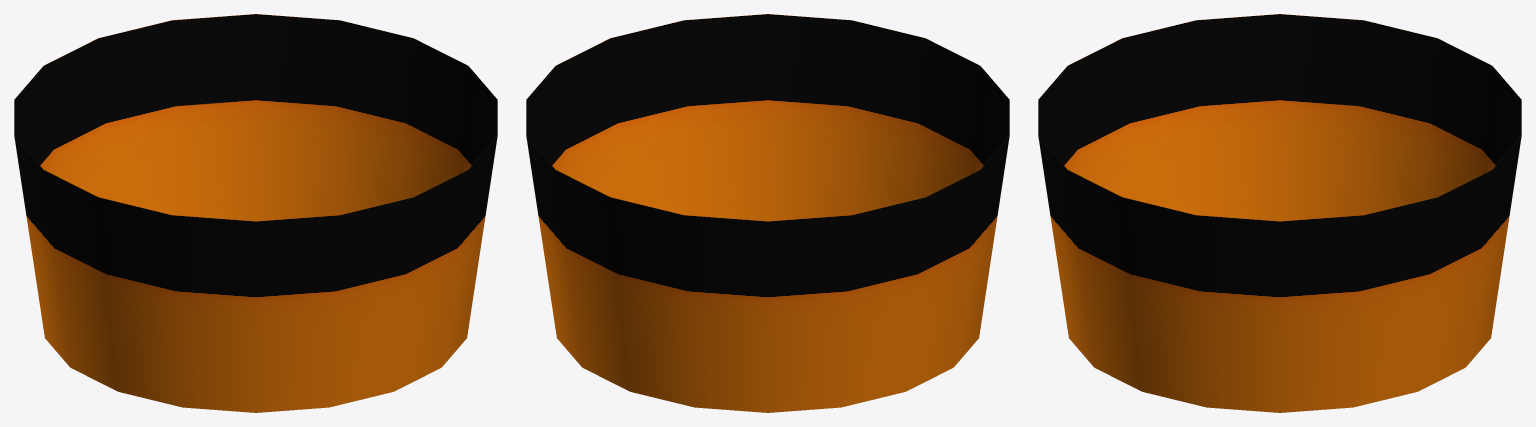
Rendered from fuego base.FBX.
The picture shows the model from 3 angles, left to right: view 1: azimuth 30°, elevation 25°; view 2: azimuth 150°, elevation 25°; view 3: azimuth 270°, elevation 25°; orthographic projection.
Parts seen in each view (by area): view 1: Cylinder001; view 2: Cylinder001; view 3: Cylinder001.
Boxes of the visible parts, x1,y1,x2,y2 form: Cylinder001: (14, 14, 497, 412); Cylinder001: (526, 14, 1009, 412); Cylinder001: (1038, 14, 1521, 412).
Size of the model in its own units: 158 by 72.8 by 156.
Materials: 1 (1 with a texture image).
